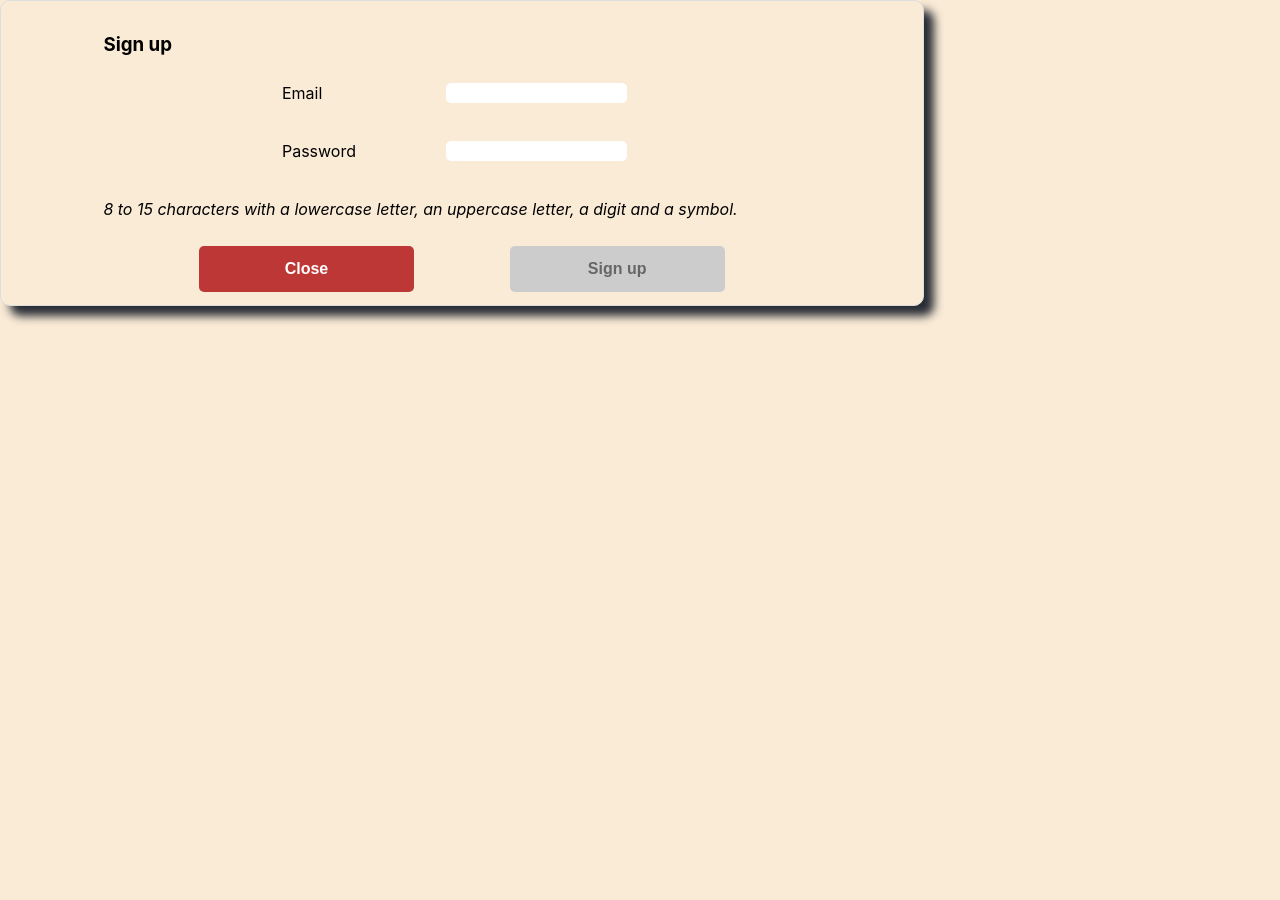
SignUp › validates the email and the password as the user types
Check: the button "Sign up" is disabled, box top-left (510, 246), bottom-right (725, 292)
In the field labelled "Email": (537, 93) top-left (446, 83), bottom-right (627, 103), type "ash"
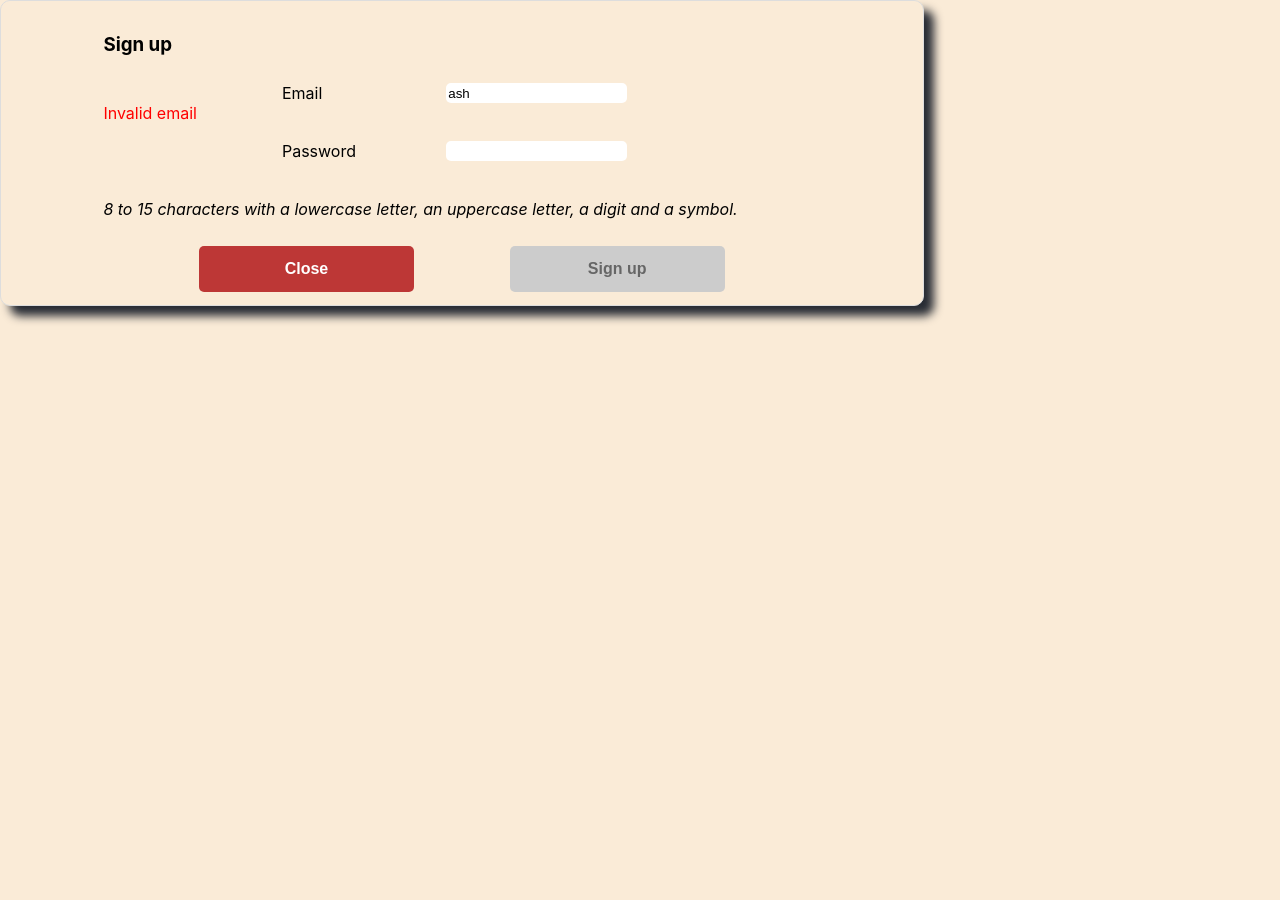
Check: the text "Invalid email" is shown, box top-left (103, 103), bottom-right (197, 123)
In the field labelled "Email": (537, 93) top-left (446, 83), bottom-right (627, 103), type "@pallet.town"
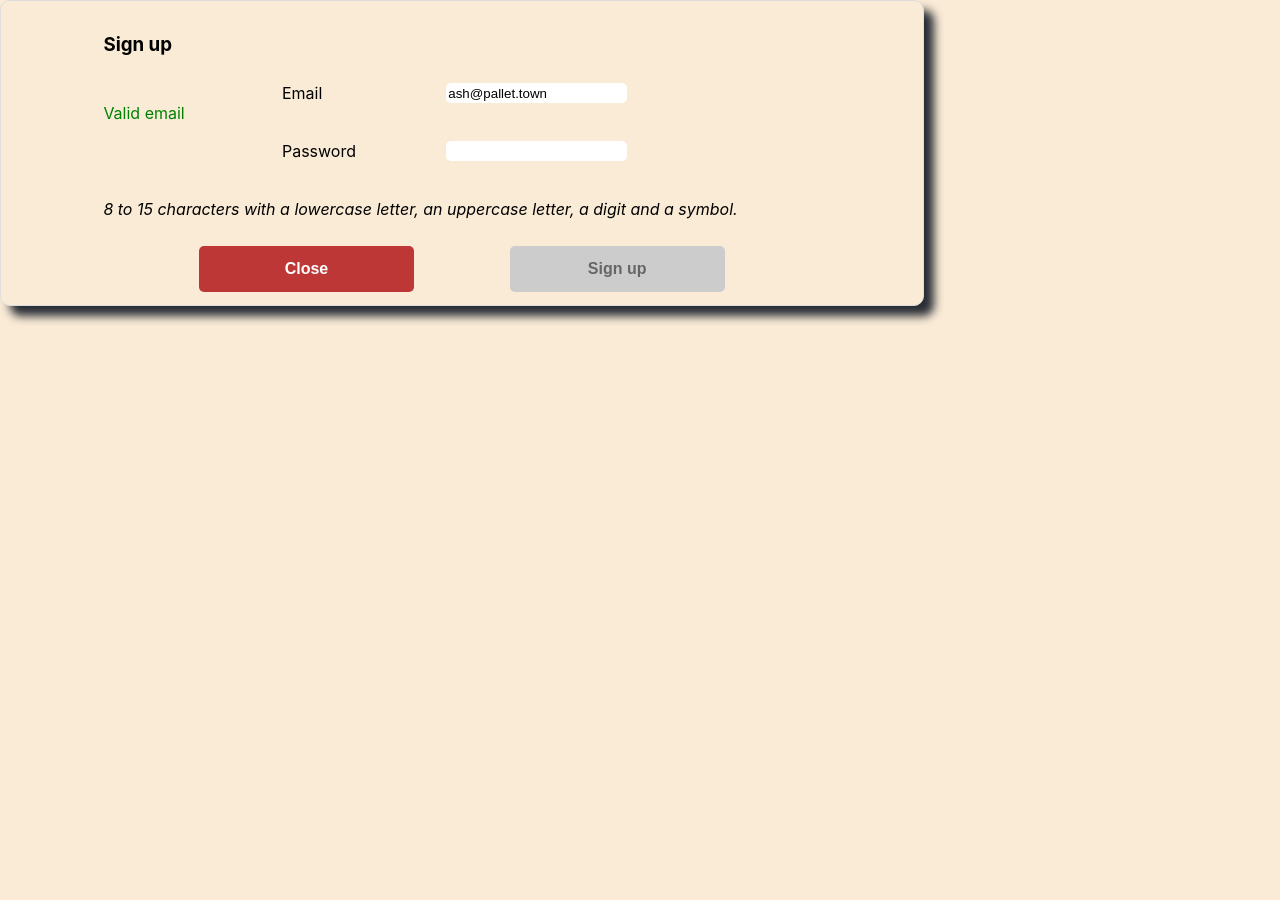
Check: the text "Valid email" is shown, box top-left (103, 103), bottom-right (185, 123)
In the password field labelled "Password": (537, 151) top-left (446, 141), bottom-right (627, 161), type "weak"
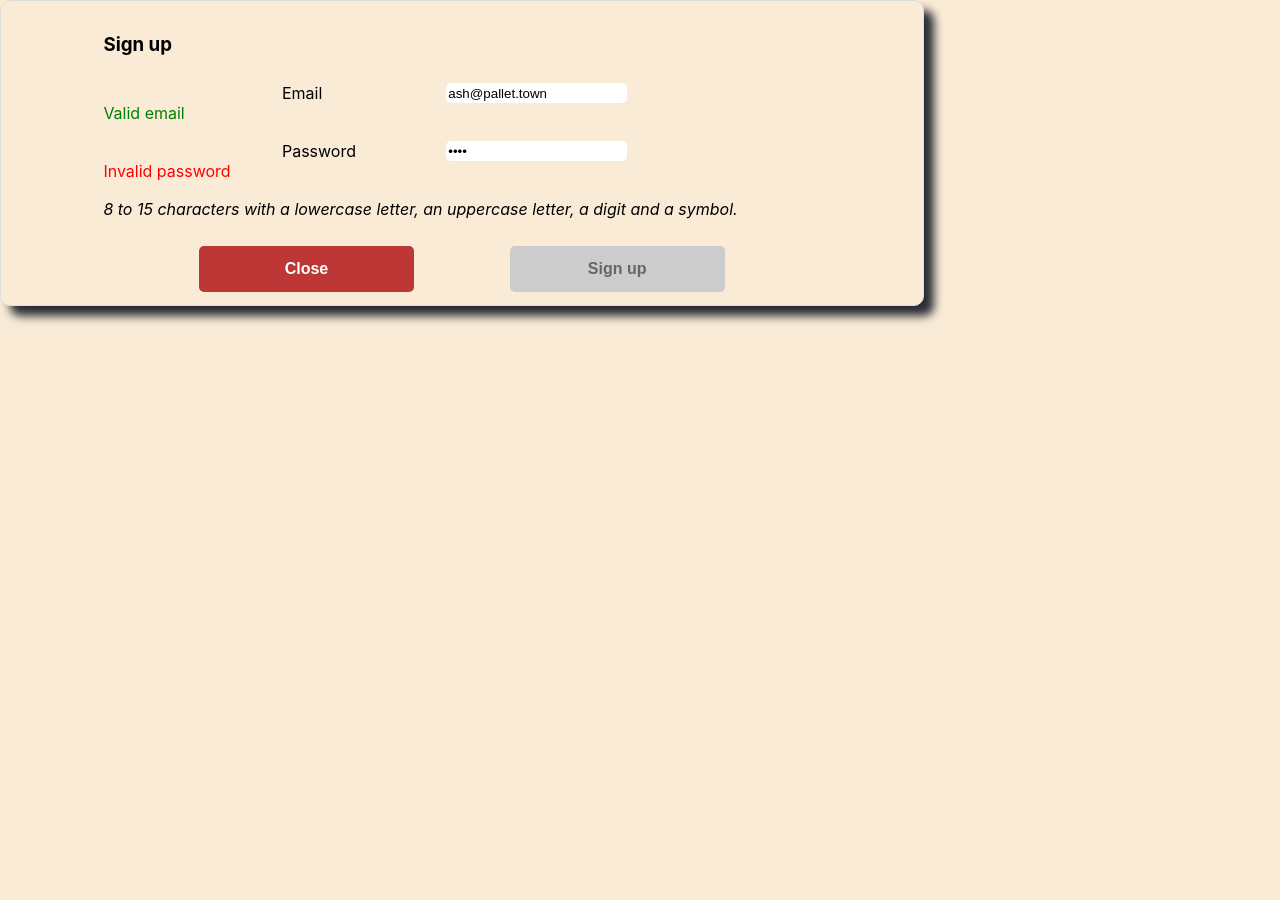
Check: the button "Sign up" is disabled, box top-left (510, 246), bottom-right (725, 292)
Check: the text "Invalid password" is shown, box top-left (103, 161), bottom-right (231, 181)
In the password field labelled "Password": (537, 151) top-left (446, 141), bottom-right (627, 161), type "Pikachu#25"
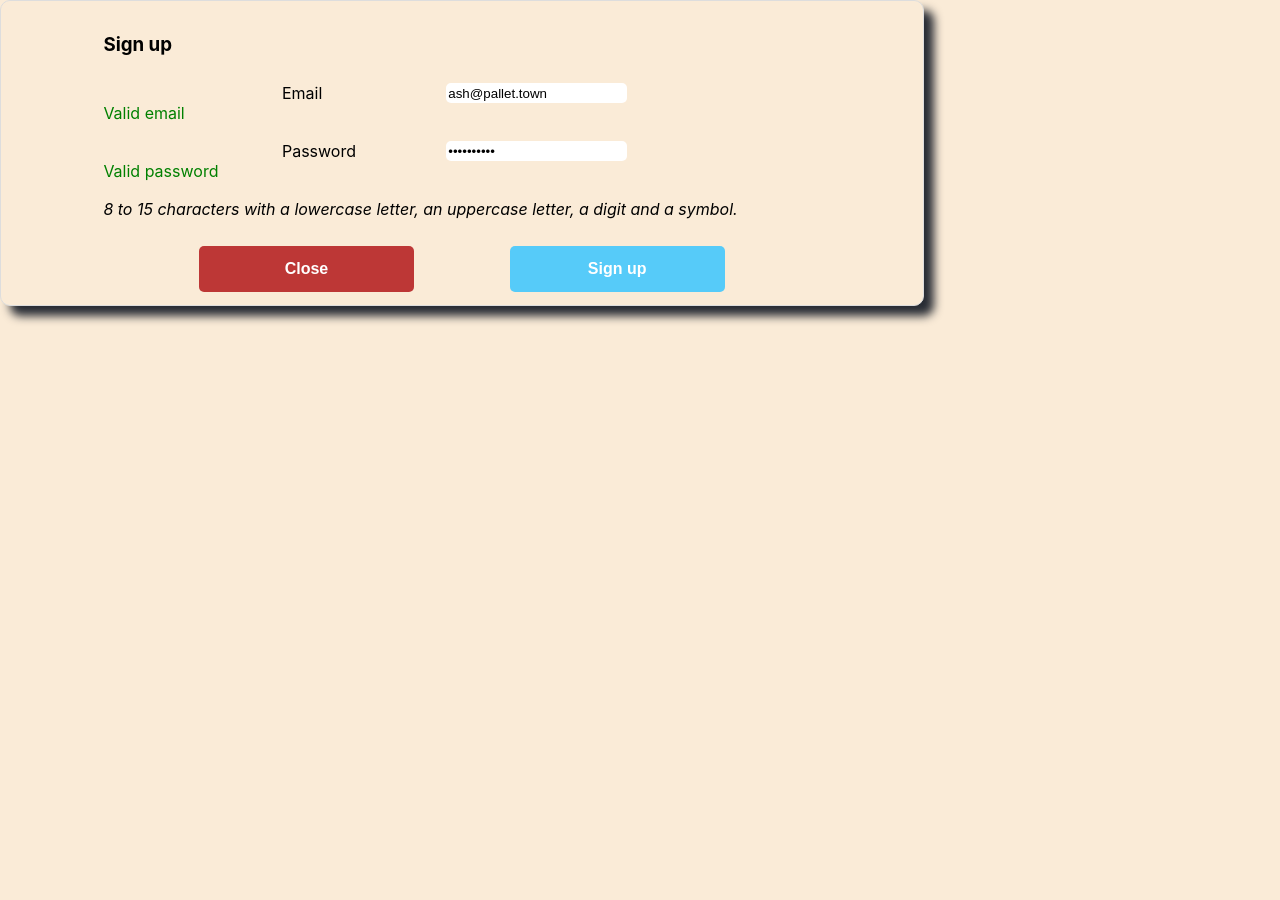
Check: the text "Valid password" is shown, box top-left (103, 161), bottom-right (218, 181)
Check: the button "Sign up" is enabled, box top-left (510, 246), bottom-right (725, 292)
